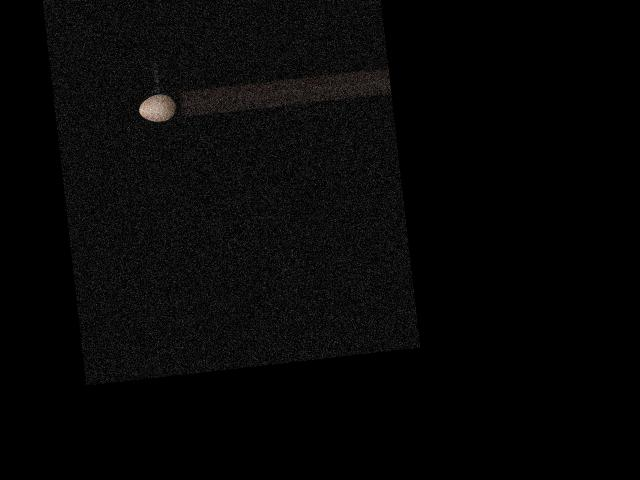egg: (137, 93, 177, 124)
